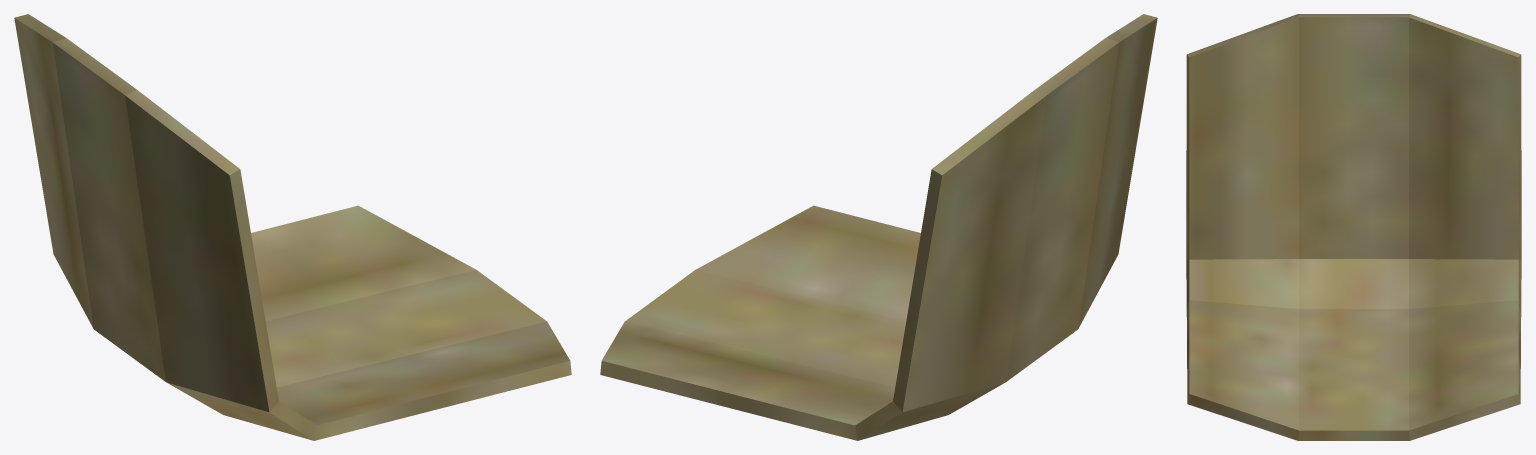
File: busstop_single_seat_loose_alt2.fbx
The picture shows the model from 3 angles, left to right: view 1: azimuth 30°, elevation 25°; view 2: azimuth 150°, elevation 25°; view 3: azimuth 270°, elevation 25°; orthographic projection. The views are drawn at different scales.
Visible parts, largest first — view 1: busstop_single_seat_loose_alt2; view 2: busstop_single_seat_loose_alt2; view 3: busstop_single_seat_loose_alt2.
Boxes of the visible parts, x1,y1,x2,y2 form: busstop_single_seat_loose_alt2: [14, 14, 571, 440]; busstop_single_seat_loose_alt2: [600, 14, 1157, 440]; busstop_single_seat_loose_alt2: [1186, 14, 1521, 440].
Size of the model in its own units: 69.2 by 54 by 61.18.
Materials: 1 (1 with a texture image).
